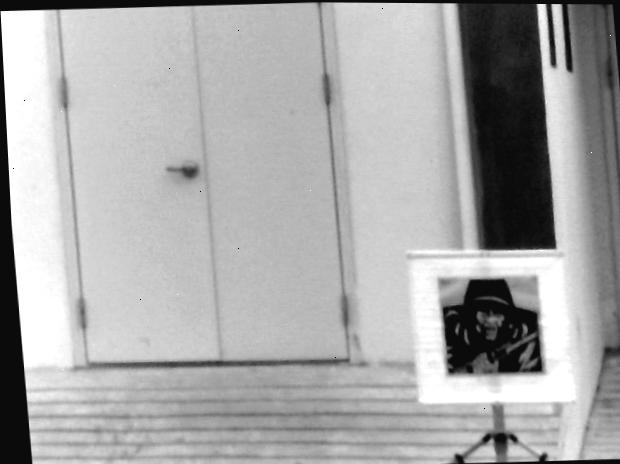bia: (435, 269, 546, 383)
chan: (442, 403, 552, 464)
